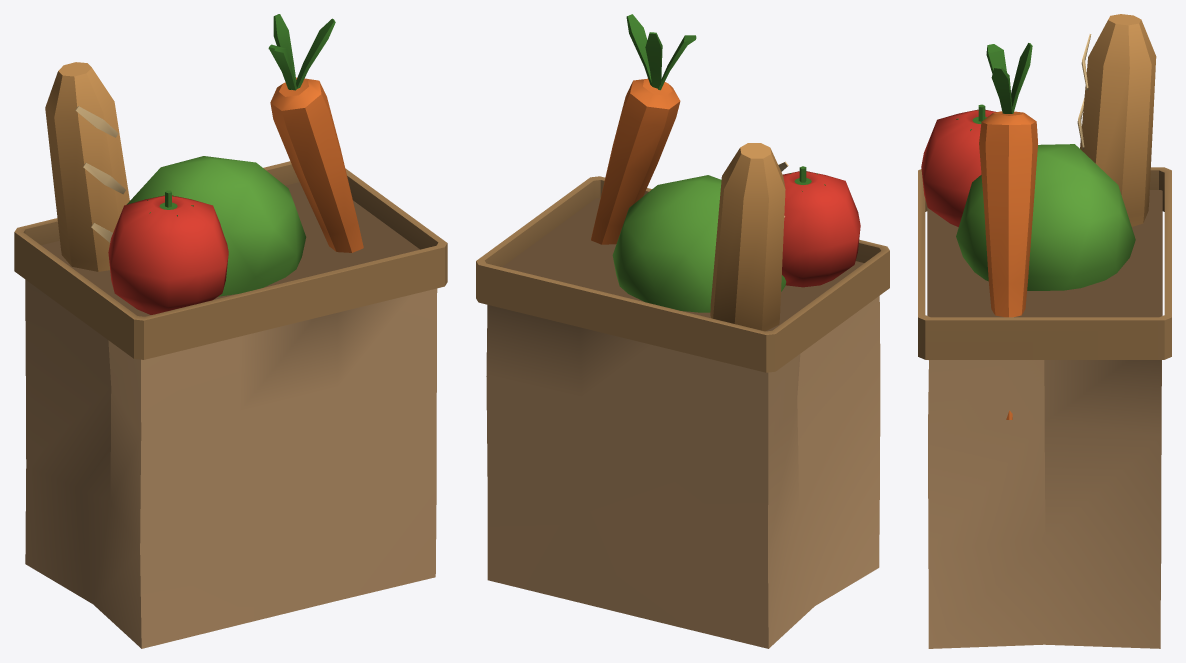
Rendered from ingredients.glb.
3 renders of one model, left to right at view 1: azimuth 30°, elevation 25°; view 2: azimuth 150°, elevation 25°; view 3: azimuth 270°, elevation 25°, orthographic. The views are drawn at different scales.
Visible parts, largest first — view 1: ingredients; view 2: ingredients; view 3: ingredients.
Part boxes in pixels (box(x1,y1,x2,y2)): ingredients: box(14, 14, 447, 648); ingredients: box(476, 14, 889, 648); ingredients: box(918, 14, 1171, 648).
Bounding box in the file's own units: 0.2 × 0.3362 × 0.14.
